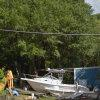Boat: (17, 67, 94, 100)
